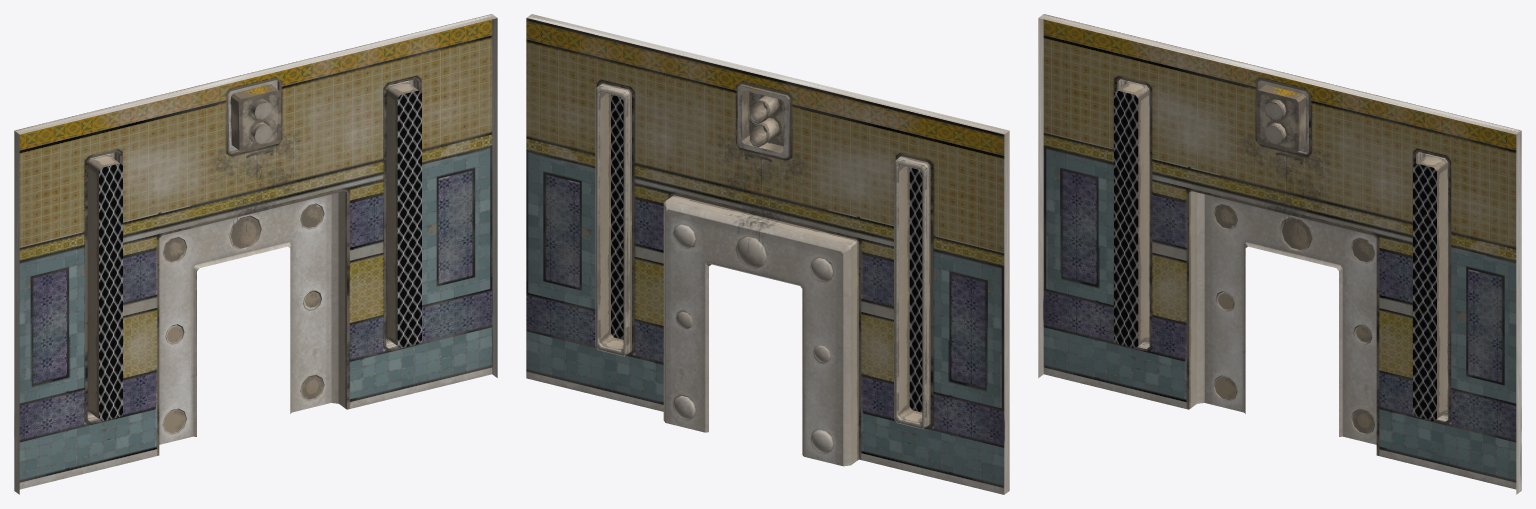
The model's file is patrick-wall-solid.glb.
3 views of the same model, side by side, from view 1: azimuth 30°, elevation 25°; view 2: azimuth 150°, elevation 25°; view 3: azimuth 330°, elevation 25° (orthographic).
Parts seen in each view (by area): view 1: Tanit_Wall_01; view 2: Tanit_Wall_01; view 3: Tanit_Wall_01.
Boxes of the visible parts, box(x1,y1,x2,y2) form: Tanit_Wall_01: box(14, 14, 497, 494); Tanit_Wall_01: box(526, 14, 1009, 494); Tanit_Wall_01: box(1038, 14, 1521, 494).
Size of the model in its own units: 0.1629 by 0.1174 by 0.0137.
Materials: 1 (1 with a texture image).
